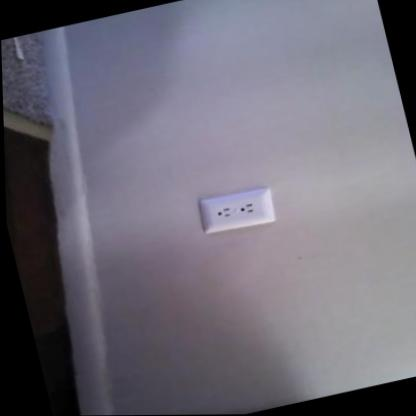OUTLET: (194, 184, 277, 237)
